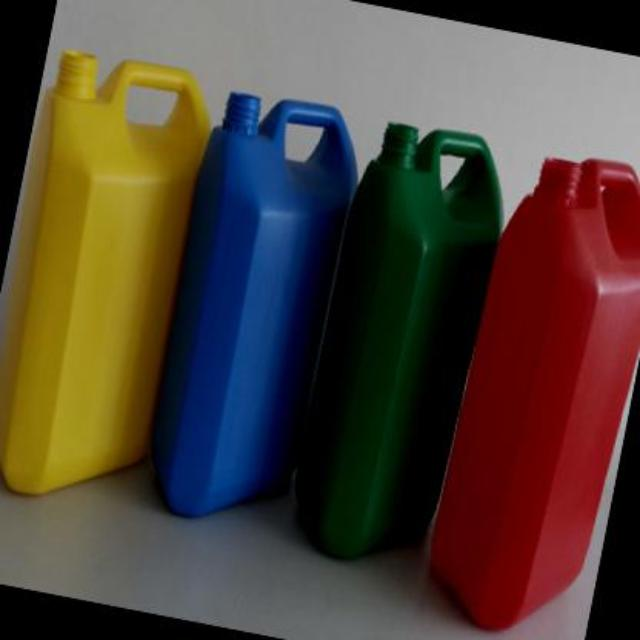chemical_plastic_gallon: (277, 96, 527, 582)
